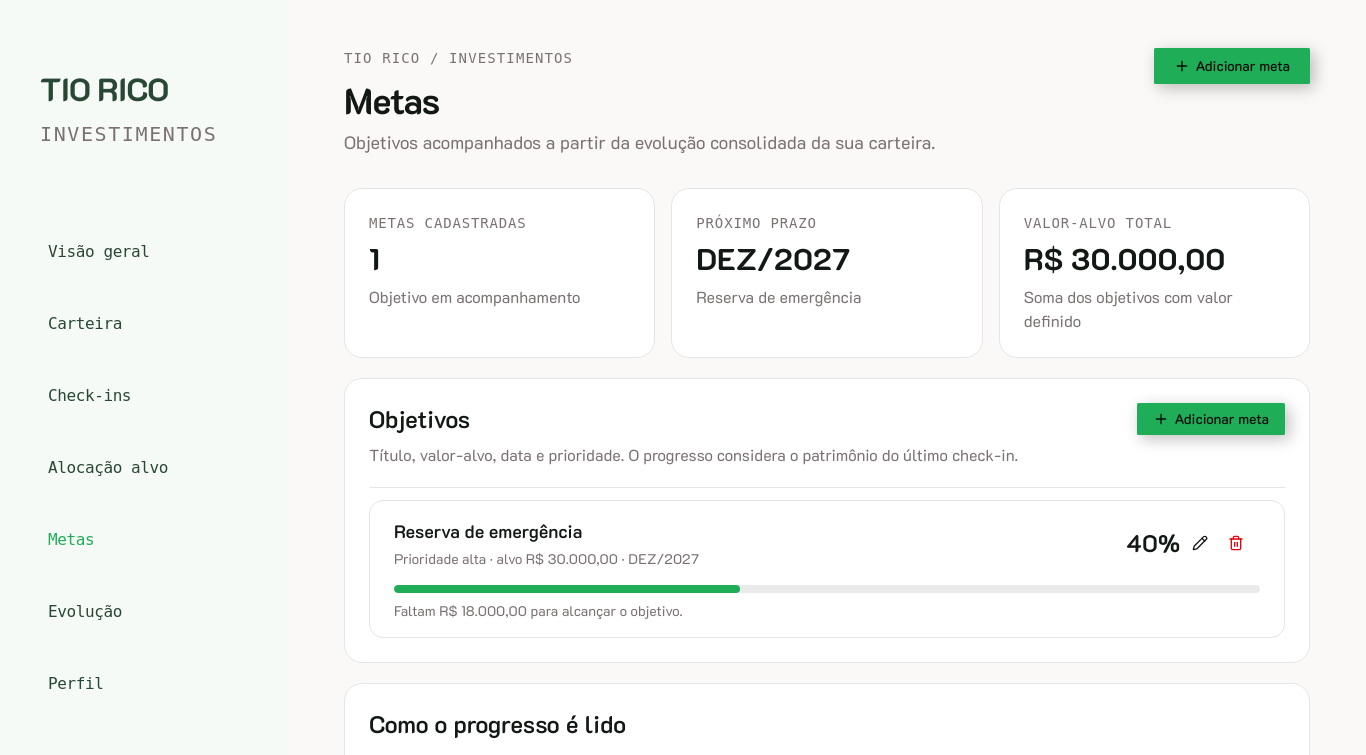
Goals (metas) › adiciona uma meta com PATCH /api/profile mantendo as existentes
Expected: the list named "Metas cadastradas" is shown, [369,500,1285,638]
Click the button "Adicionar meta" in the row of "TIO RICO / INVESTIMENTOS": coordinates (1232, 66) [1154,48,1310,84]
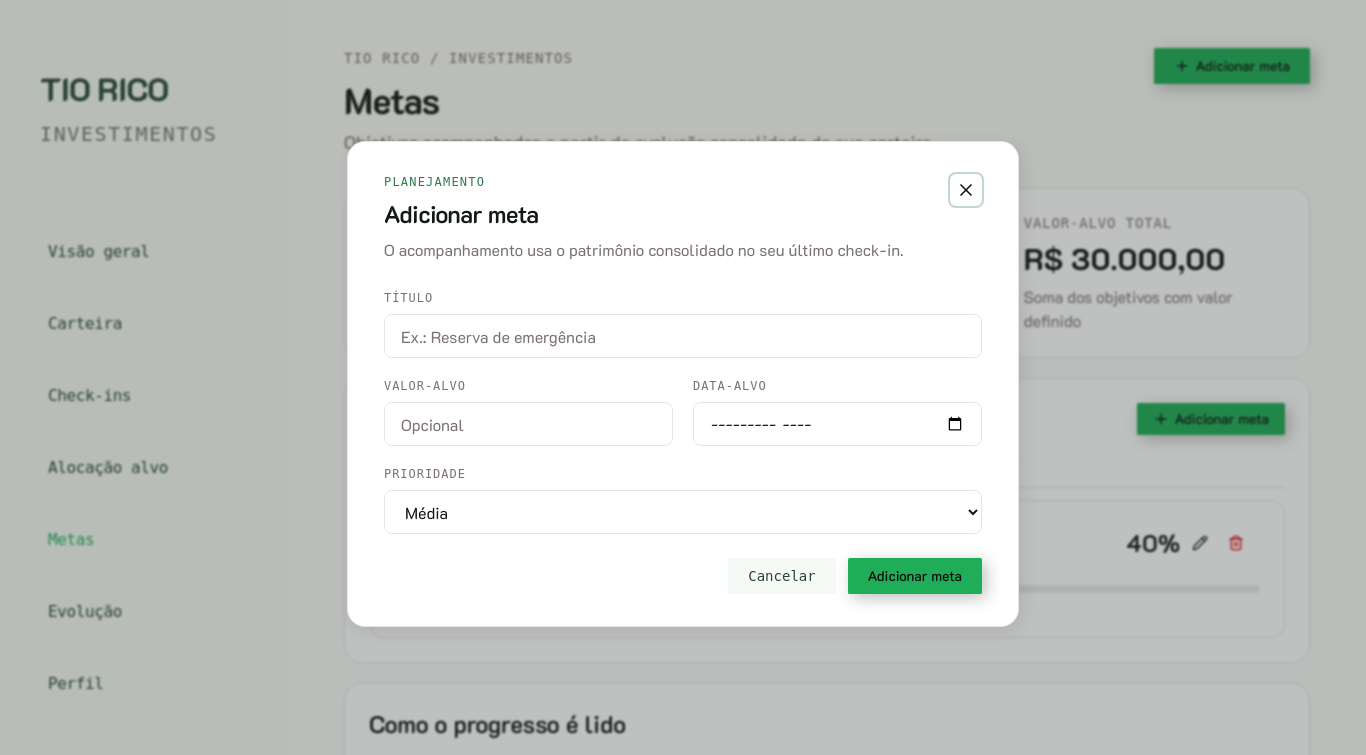
In the field labelled "Título": coordinates (683, 336) [384,314,982,358], type "Viagem"
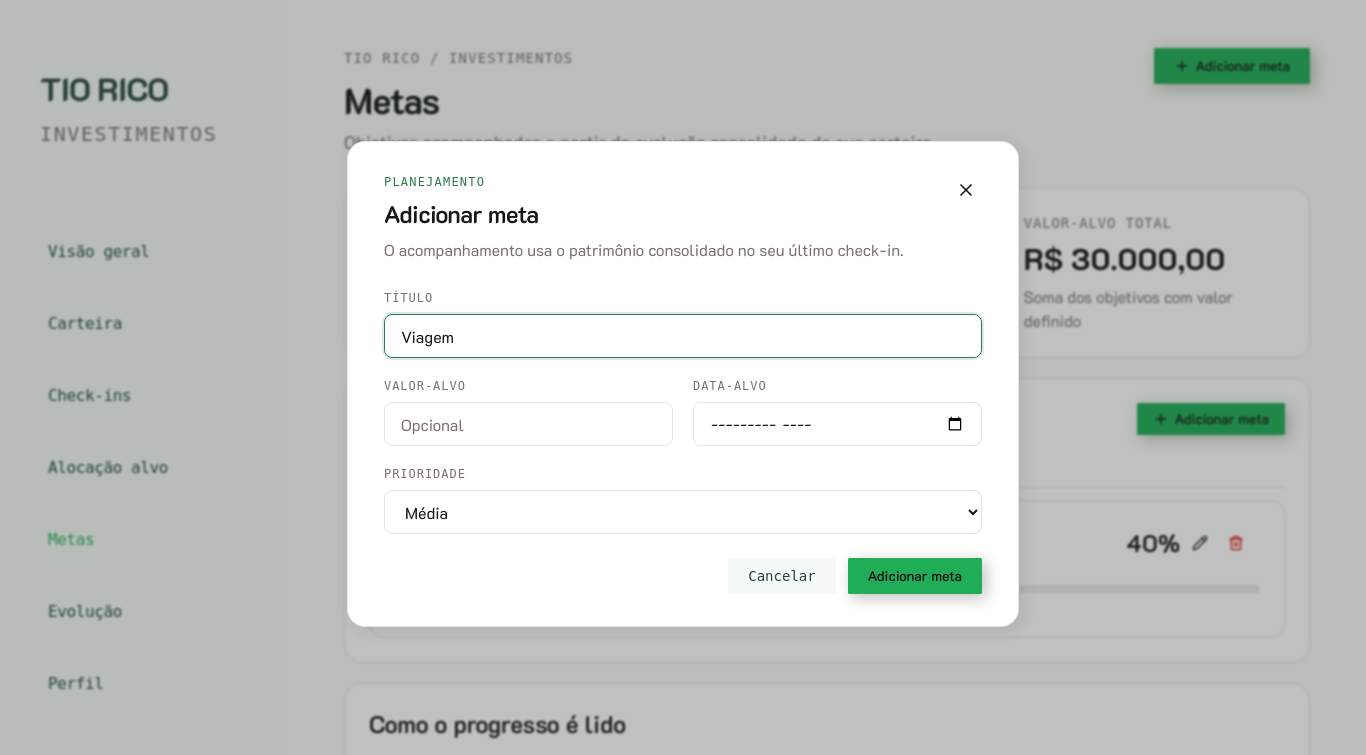
In the field labelled "Valor-alvo": coordinates (528, 424) [384,402,673,446], type "12.000,00"
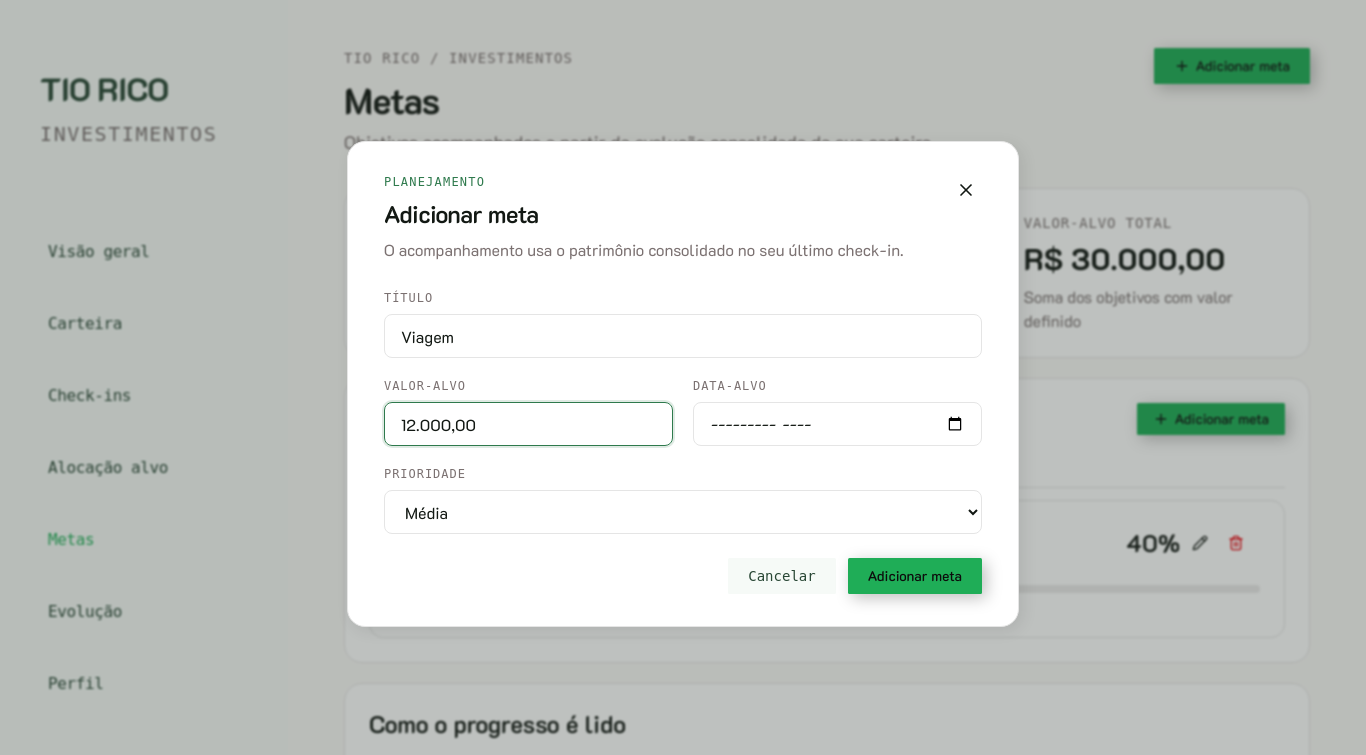
In the field labelled "Data-alvo": coordinates (838, 424) [693,402,982,446], type "2028-07"
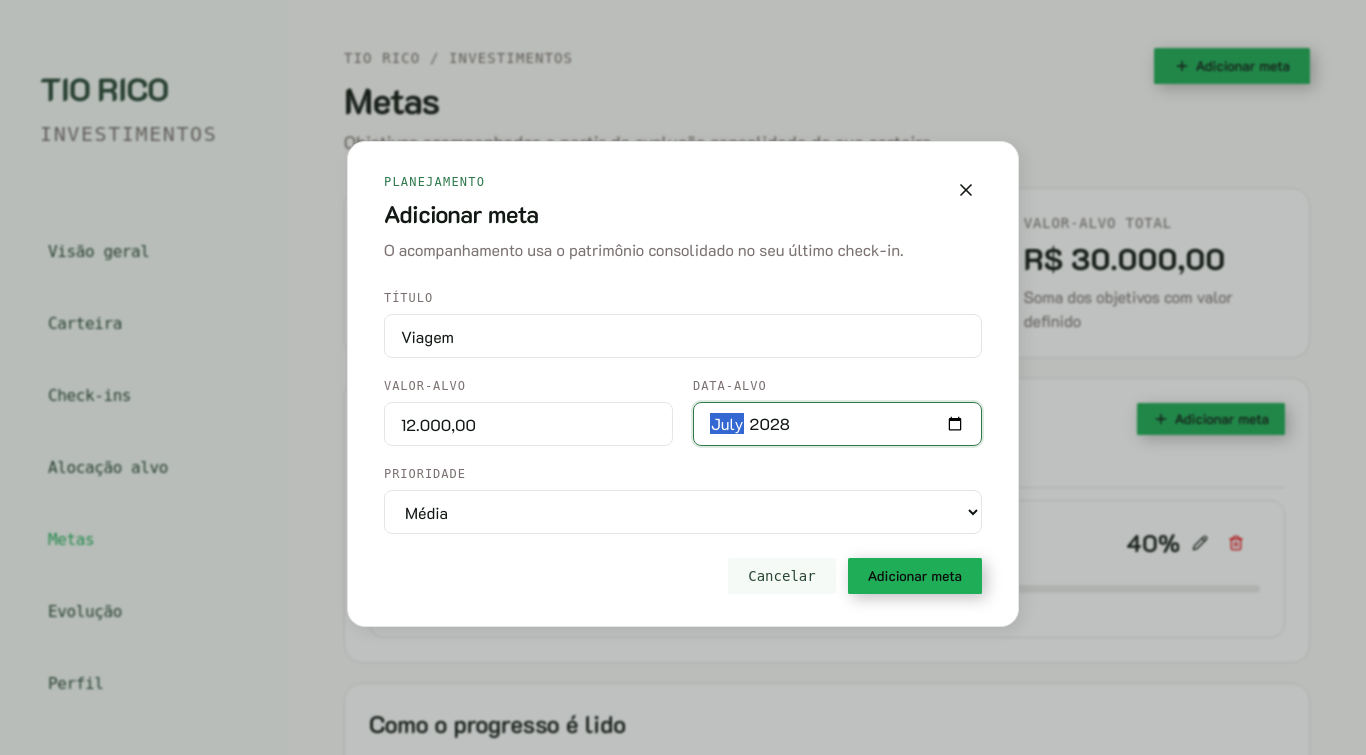
Select "Baixa" in the dropdown labelled "Prioridade": coordinates (683, 512) [384,490,982,534]
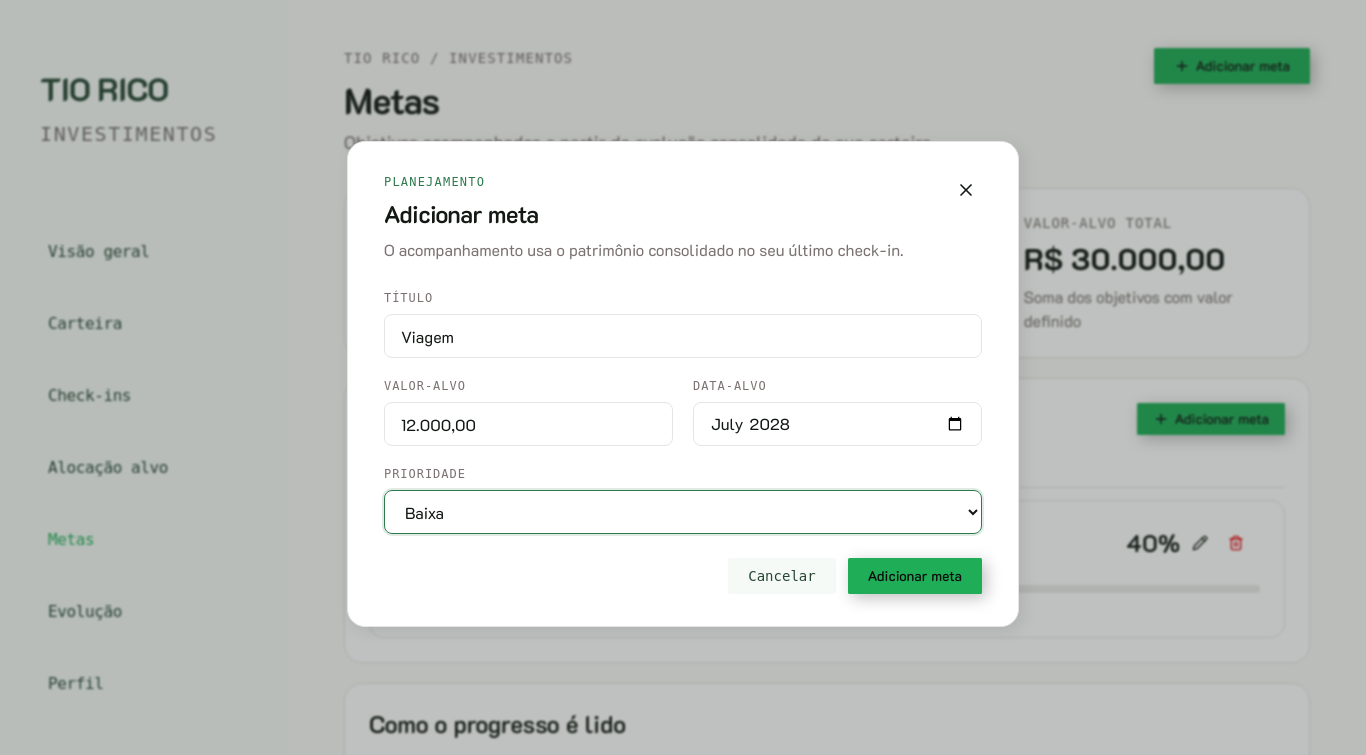
Click the button "Adicionar meta": coordinates (915, 576) [848,558,982,594]
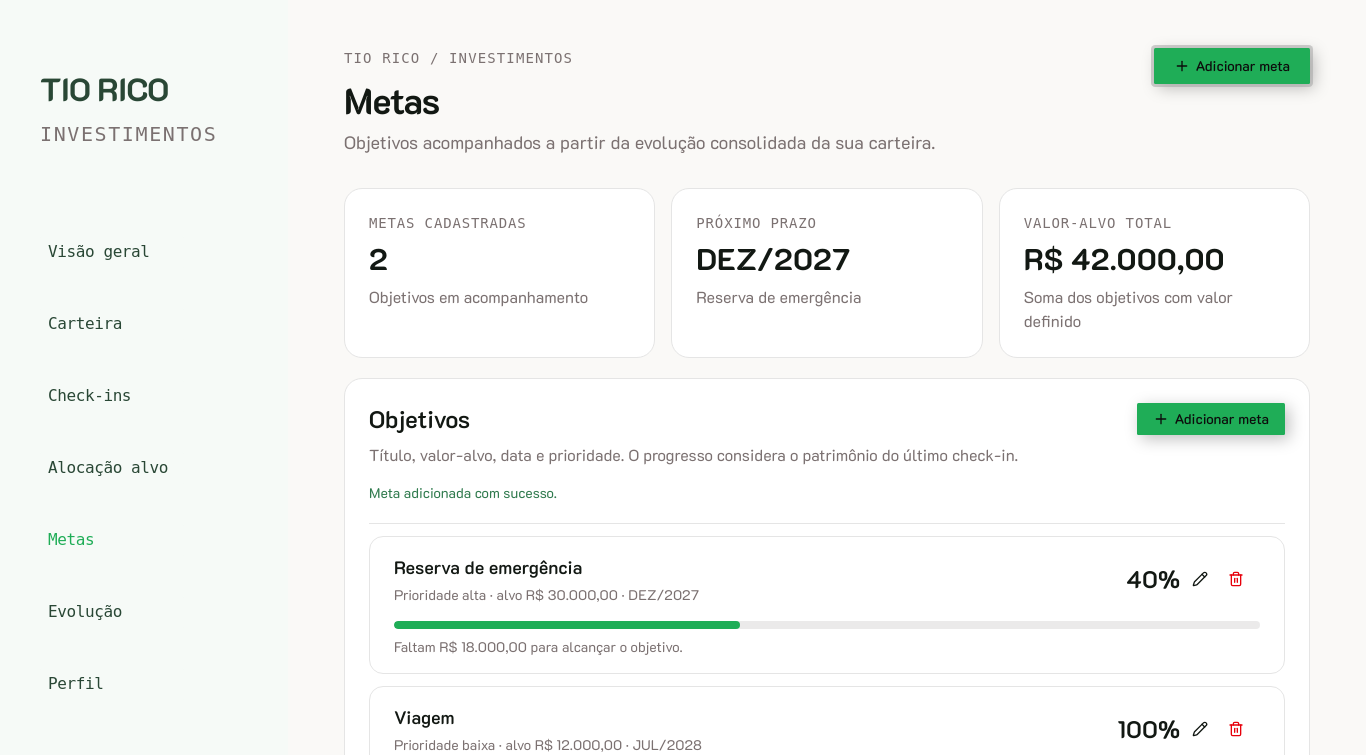
Expected: the text "Meta adicionada com sucesso." is shown, [369,483,557,502]
